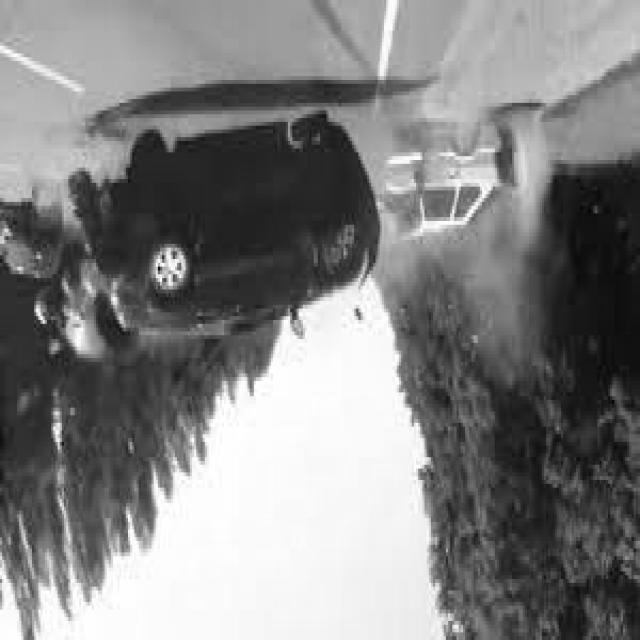severe: (67, 98, 387, 352)
